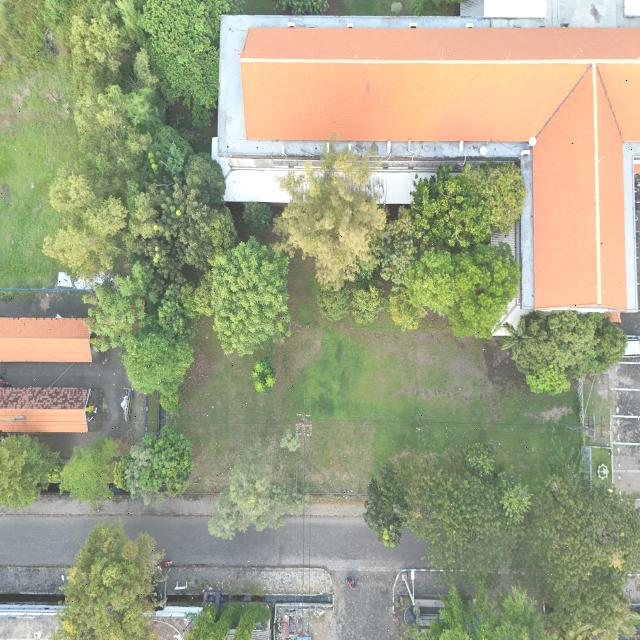Tree: (206, 238, 294, 356), (118, 428, 194, 507), (121, 324, 196, 392), (62, 436, 124, 506), (407, 244, 463, 320), (500, 478, 535, 523), (248, 362, 280, 396)
